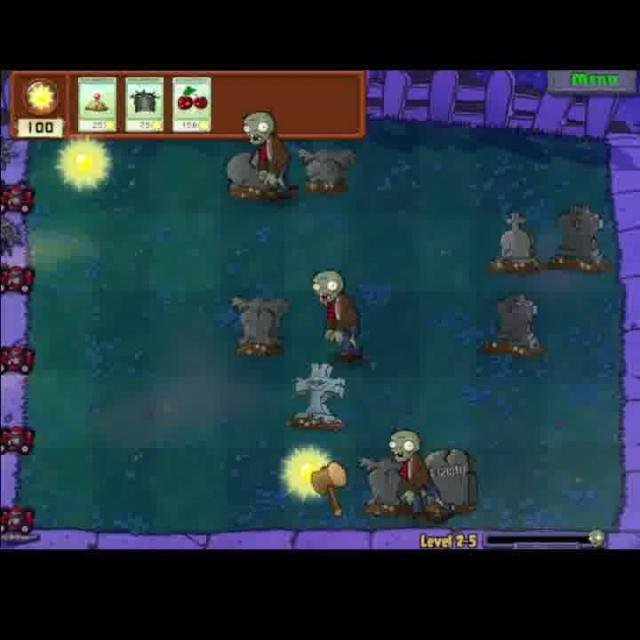sunshine: (55, 134, 114, 199), (282, 446, 339, 507)
zombies: (382, 423, 452, 528), (307, 266, 367, 366), (237, 108, 295, 202)
